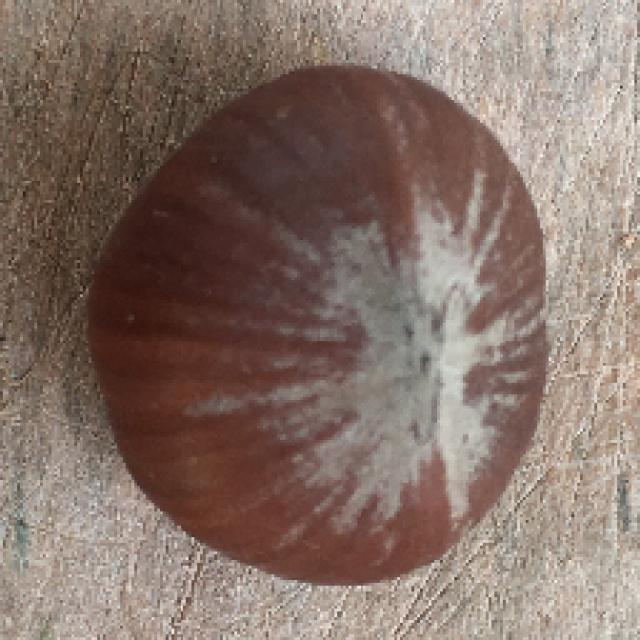qualityHazelnut: (88, 55, 567, 589)
